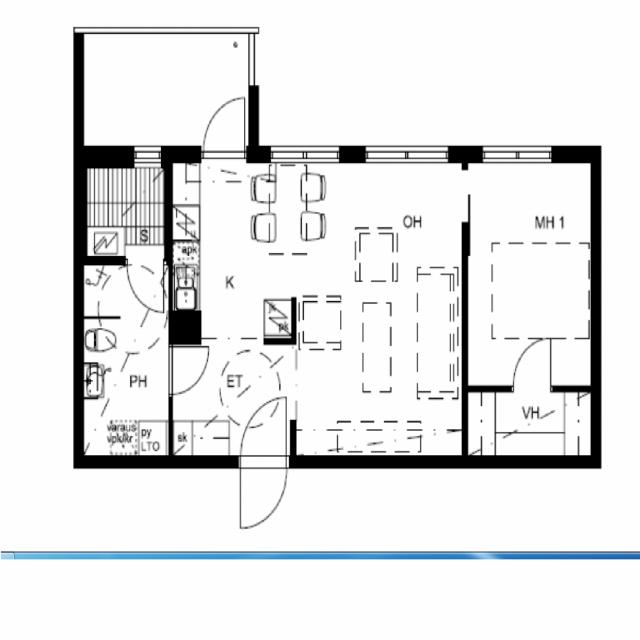door: (240, 454, 287, 526), (240, 397, 287, 468), (203, 93, 244, 162), (513, 337, 551, 392), (127, 255, 163, 311), (168, 346, 210, 393)
